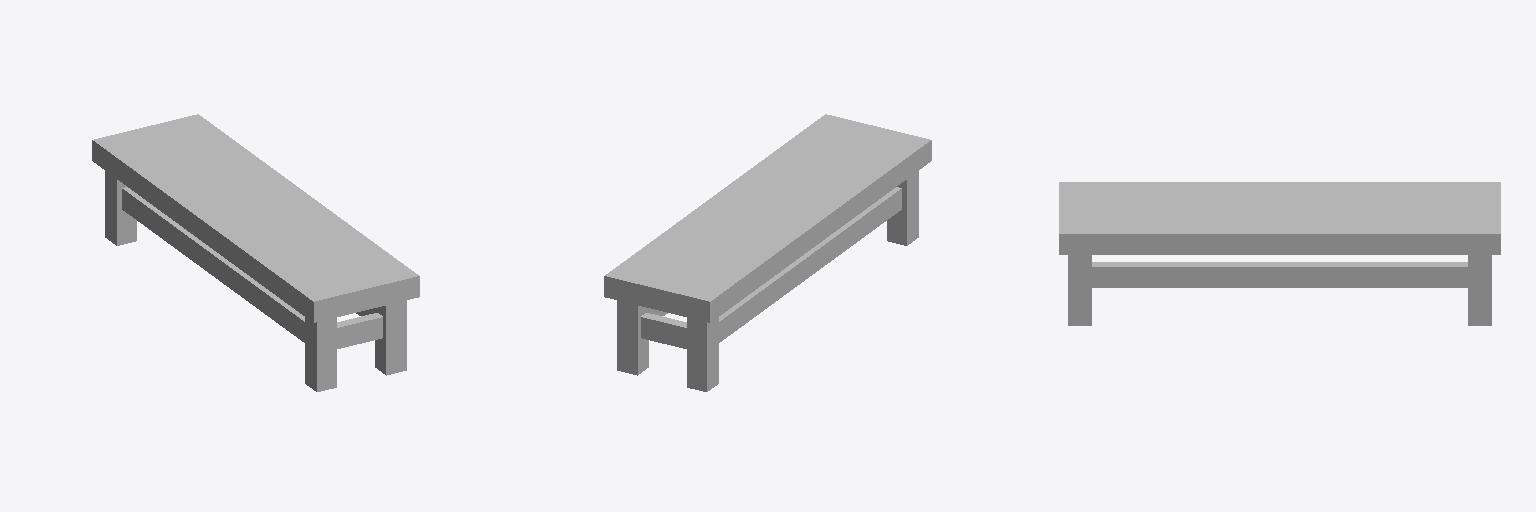
Rendered from stallBench.obj.
The picture shows the model from 3 angles: view 1: azimuth 30°, elevation 25°; view 2: azimuth 150°, elevation 25°; view 3: azimuth 270°, elevation 25°; orthographic projection.
Visible parts, largest first — view 1: stallBench; view 2: stallBench; view 3: stallBench.
Part boxes in pixels (x1,y1,x2,y2): stallBench: (92, 114, 419, 391); stallBench: (604, 114, 931, 391); stallBench: (1059, 182, 1500, 325).
Size of the model in its own units: 0.26 by 0.2255 by 0.94.